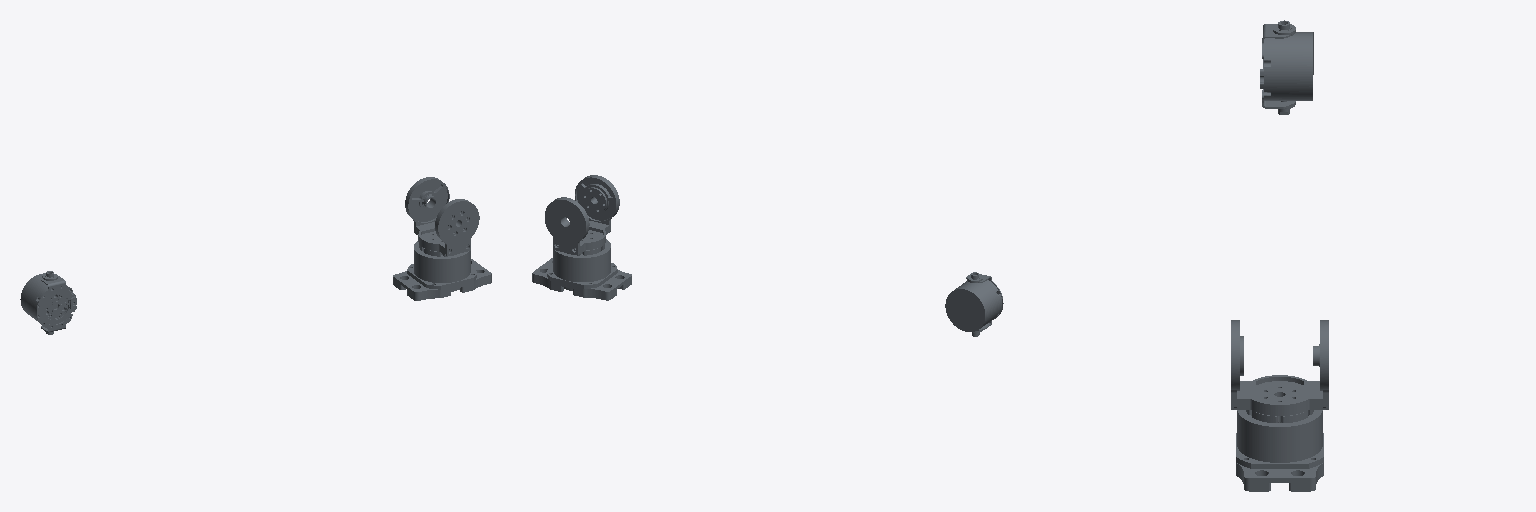
URDF robot description (openarm_two_arms):
<?xml version="1.0" ?>
<robot name="openarm_two_arms">
  <link name="l_J1_v002">
    <visual>
      <!--J1 v002/Part__Feature001.-->
      <origin rpy="0 0 0" xyz="0.0 0.0 -0.0007"/>
      <geometry>
        <mesh filename="package://openarm_two_arms/meshes/full_upper_j1v1_fj2ul1.dae"/>
      </geometry>
    </visual>
    <collision>
      <!--bound_obj__right_link1__col_J1_v1__BoundBox/col_J1_v1__BoundBox.-->
      <origin rpy="0 0 0" xyz="0.0 0.0 0.0289"/>
      <geometry>
        <box size="0.11 0.073 0.0592"/>
      </geometry>
    </collision>
    <inertial>
      <mass value="0.5769283920617254"/>
      <origin rpy="0 0 0" xyz="0.0 2.52845e-05 0.0229621"/>
      <inertia ixx="0.00034035167574060775" ixy="-2.623557985991217e-18" ixz="-6.093726095527621e-18" iyy="0.0004300058300010205" iyz="-5.09829482074806e-07" izz="0.0004802171432001996"/>
    </inertial>
  </link>
  <link name="l_J2_v002">
    <visual>
      <!--J2 v002/Part__Feature002.-->
      <origin rpy="0 0 0" xyz="0.0 0.0 -0.05395"/>
      <geometry>
        <mesh filename="package://openarm_two_arms/meshes/full_upper_j2v1_xzm1cu.dae"/>
      </geometry>
    </visual>
    <collision>
      <!--bound_obj__right_link2__col_J2_v1__BoundBox/col_J2_v1__BoundBox.-->
      <origin rpy="0 0 0" xyz="0.0 0.0 0.0371236"/>
      <geometry>
        <box size="0.0590000000149012 0.08200000000000002 0.0742471498637348"/>
      </geometry>
    </collision>
    <inertial>
      <mass value="0.16257504134917358"/>
      <origin rpy="0 0 0" xyz="-0.000225878 -0.00183836 0.0278368"/>
      <inertia ixx="0.00023903110213294374" ixy="-7.551692921096027e-08" ixz="-1.1282723362433474e-06" iyy="0.00010490798314778774" iyz="5.9079627839725245e-06" izz="0.00019737368685935776"/>
    </inertial>
  </link>
  <link name="l_J3_v003">
    <visual>
      <!--J3 v003/Part__Feature003.-->
      <origin rpy="1.570796326794897 0 0" xyz="0.0 0.0987 0.02975"/>
      <geometry>
        <mesh filename="package://openarm_two_arms/meshes/full_upper_j3v2_5nirfo.dae"/>
      </geometry>
    </visual>
    <collision>
      <!--bound_obj__right_link3__col_J3_v2__BoundBox/col_J3_v2__BoundBox.-->
      <origin rpy="1.5707963267948968 0 0" xyz="-0.0164466 -0.00045542 0.02975"/>
      <geometry>
        <box size="0.08989101803441879 0.06999999999999983 0.05903276947803012"/>
      </geometry>
    </collision>
    <inertial>
      <mass value="0.4201676469910031"/>
      <origin rpy="1.5707963267948968 0 0" xyz="-0.00688022 0.0 0.0282752"/>
      <inertia ixx="0.00020256001126230057" ixy="6.004247875311213e-06" ixz="1.3304903057525575e-06" iyy="0.0002970624991387495" iyz="5.980157765704868e-07" izz="0.00032889994351244413"/>
    </inertial>
  </link>
  <link name="l_J4_v002">
    <visual>
      <!--J4 v002/Part__Feature004.-->
      <origin rpy="-3.1415926535888543 -1.5620381439005742 0" xyz="-0.0986962 0.0 0.0621144"/>
      <geometry>
        <mesh filename="package://openarm_two_arms/meshes/full_upper_j4v1_u1e2xn.dae"/>
      </geometry>
    </visual>
    <collision>
      <!--bound_obj__right_link4__col_J4_v1__BoundBox/col_J4_v1__BoundBox.-->
      <origin rpy="-3.14159265358886 -1.5620381439005742 0" xyz="0.000266276 -0.0125642 -0.132604"/>
      <geometry>
        <box size="0.27584673777150337 0.08211429171582063 0.07186573179325861"/>
      </geometry>
    </collision>
    <inertial>
      <mass value="0.819475539373447"/>
      <origin rpy="-3.14159265358886 -1.5620381439005742 0" xyz="0.000781326 -0.0019461 -0.132411"/>
      <inertia ixx="0.00044078452033976287" ixy="6.020023694043618e-05" ixz="0.00014637459261941218" iyy="0.009208791480530413" iyz="1.5469710436444469e-06" izz="0.009170539316023695"/>
    </inertial>
  </link>
  <link name="l_J5_v003">
    <visual>
      <!--J5 v003/Part__Feature005.-->
      <origin rpy="0 -0.008758182894317394 0" xyz="0.303864 0.0 -0.128451"/>
      <geometry>
        <mesh filename="package://openarm_two_arms/meshes/full_upper_j5v2_ckk9an.dae"/>
      </geometry>
    </visual>
    <collision>
      <!--bound_obj__right_link5__col_J5_v2__BoundBox/col_J5_v2__BoundBox.-->
      <origin rpy="0 -0.008758182894316818 0" xyz="-0.0542814 0.00265291 -0.0302022"/>
      <geometry>
        <box size="0.16827213220625828 0.06430555048399171 0.08257859967140947"/>
      </geometry>
    </collision>
    <inertial>
      <mass value="0.4086748254352304"/>
      <origin rpy="0 -0.008758182894316905 0" xyz="-0.0831891 0.00251789 -0.0290107"/>
      <inertia ixx="0.00031417157425298747" ixy="-1.1391566029536723e-05" ixz="-1.883474090056124e-05" iyy="0.001221711435313989" iyz="1.46725418421127e-06" izz="0.0010755135067660488"/>
    </inertial>
  </link>
  <link name="l_J6_right_wrist">
    <visual>
      <!--J6 right_wrist/Part__Feature006.-->
      <origin rpy="-2.1276679791326423 -1.5542266826921929 0" xyz="-0.0485412 -0.0860404 0.437784"/>
      <geometry>
        <mesh filename="package://openarm_two_arms/meshes/full_upper_j6v1_mg9rps.dae"/>
      </geometry>
    </visual>
    <collision>
      <!--bound_obj__right_link6__col_J6_v1__BoundBox/col_J6_v1__BoundBox.-->
      <origin rpy="-2.127667979132636 -1.5542266826921927 0" xyz="-0.00260794 -0.00312921 -0.0652641"/>
      <geometry>
        <box size="0.13114353004704765 0.05953478325301745 0.08817196195081879"/>
      </geometry>
    </collision>
    <inertial>
      <mass value="0.3448471958049249"/>
      <origin rpy="-2.127667979132636 -1.5542266826921927 0" xyz="-0.00898536 -0.0135065 -0.0438611"/>
      <inertia ixx="0.00019355980999748924" ixy="-1.0061665815148114e-06" ixz="-3.9096495715032716e-05" iyy="0.0003486912031865755" iyz="6.088060315273385e-06" izz="0.00028774975153756256"/>
    </inertial>
  </link>
  <link name="l_J7_v002">
    <visual>
      <!--J7 right v002/Part__Feature007.-->
      <origin rpy="0 -0.008758182894510852 0" xyz="0.558839 -0.00358671 -0.0631962"/>
      <geometry>
        <mesh filename="package://openarm_two_arms/meshes/full_upper_j7v1_9yzky6.dae"/>
      </geometry>
    </visual>
    <collision>
      <!--bound_obj__right_link7__col_J7_v1__BoundBox/col_J7_v1__BoundBox.-->
      <origin rpy="0 -0.008758182894511114 0" xyz="-0.000318103 0.0022839 0.0340014"/>
      <geometry>
        <box size="0.058327402175132874 0.04432916698753661 0.08267601622411752"/>
      </geometry>
    </collision>
    <inertial>
      <mass value="0.2782138078738053"/>
      <origin rpy="0 -0.008758182894511043 0" xyz="5.99432e-05 0.0041433 0.0354274"/>
      <inertia ixx="0.00010424153315648891" ixy="2.735265831785291e-07" ixz="-1.0662322382945994e-07" iyy="0.00012313550743283462" iyz="-8.604996754782856e-08" izz="9.221319958512582e-05"/>
    </inertial>
  </link>
  <link name="l_J8_v002">
    <visual>
      <!--J8 v002/Part__Feature008.-->
      <origin rpy="1.5709195259578714 -0.014065461951077267 0" xyz="0.557948 0.103587 0.019724"/>
      <geometry>
        <mesh filename="package://openarm_two_arms/meshes/full_upper_j8v1_dka5zq.dae"/>
      </geometry>
    </visual>
    <collision>
      <!--bound_obj__right_link8__col_J8_v1__BoundBox/col_J8_v1__BoundBox.-->
      <origin rpy="1.5709195259578714 -0.01406546195107726 0" xyz="-0.042694 -0.000543176 0.0110286"/>
      <geometry>
        <box size="0.13038799671743653 0.05180887692688926 0.1601236763440867"/>
      </geometry>
    </collision>
    <inertial>
      <mass value="0.31261452743802165"/>
      <origin rpy="1.5709195259578714 -0.01406546195107726 0" xyz="-0.0607602 -0.000341696 0.00876618"/>
      <inertia ixx="0.00023465661366788053" ixy="7.609048882006294e-05" ixz="3.088694121124684e-07" iyy="0.0005065459365215377" iyz="1.9022818028658623e-07" izz="0.0003737029250058136"/>
    </inertial>
  </link>
  <link name="l_left_jaw_v002">
    <visual>
      <!--left_jaw v002/Part__Feature009.-->
      <origin rpy="0 -0.008758182894469432 0" xyz="0.665265 -0.00286677 -0.0209282"/>
      <geometry>
        <mesh filename="package://openarm_two_arms/meshes/full_upper_left_jawv1_6yxtlc.dae"/>
      </geometry>
    </visual>
    <collision>
      <!--bound_obj__right_left_jaw__col_left_jaw_v1_col_obj/col_left_jaw_v1_col_obj.-->
      <origin rpy="0 -0.0087581828944695 0" xyz="0.665265 -0.00286677 -0.0209282"/>
      <geometry>
        <mesh filename="package://openarm_two_arms/meshes/full_upper_col_left_jaw_v1_col_obj_wr4fju.dae"/>
      </geometry>
    </collision>
    <inertial>
      <mass value="0.04297897856394934"/>
      <origin rpy="0 -0.008758182894469429 0" xyz="-0.0187138 0.00217075 0.0159499"/>
      <inertia ixx="1.1771768742932353e-05" ixy="-2.389928166589898e-06" ixz="3.999292204534159e-06" iyy="2.3837354480794824e-05" iyz="3.494431877242991e-07" izz="3.0474590214086944e-05"/>
    </inertial>
  </link>
  <link name="l_right_jaw_v002">
    <visual>
      <!--right_jaw v002/Part__Feature010.-->
      <origin rpy="0 -0.008758182898001485 0" xyz="0.665265 -0.00286677 -0.175928"/>
      <geometry>
        <mesh filename="package://openarm_two_arms/meshes/full_upper_right_jawv1_0fmgsg.dae"/>
      </geometry>
    </visual>
    <collision>
      <!--bound_obj__right_right_jaw__col_right_jaw_v1_col_obj/col_right_jaw_v1_col_obj.-->
      <origin rpy="0 -0.008758182898001553 0" xyz="0.665265 -0.00286677 -0.175928"/>
      <geometry>
        <mesh filename="package://openarm_two_arms/meshes/full_upper_col_right_jaw_v1_col_obj_9qatoq.dae"/>
      </geometry>
    </collision>
    <inertial>
      <mass value="0.042981665301134515"/>
      <origin rpy="0 -0.00875818289800148 0" xyz="-0.0187844 -0.00272415 -0.0159503"/>
      <inertia ixx="1.1561293087621594e-05" ixy="2.537718468008212e-06" ixz="-3.6591812257702003e-06" iyy="2.370165527871047e-05" iyz="4.848038235889027e-07" izz="3.039652946542647e-05"/>
    </inertial>
  </link>
  <joint name="right_rev1" type="revolute">
    <parent link="l_J1_v002"/>
    <child link="l_J2_v002"/>
    <origin rpy="0 0 0" xyz="0.0 0.0 0.05325"/>
    <axis xyz="0 0 1"/>
    <limit effort="0.0" lower="-2.0943951023931953" upper="2.0943951023931953" velocity="0.0"/>
  </joint>
  <joint name="right_rev2" type="revolute">
    <parent link="l_J2_v002"/>
    <child link="l_J3_v003"/>
    <origin rpy="-1.5707963267948968 0 0" xyz="0.0 -0.02975 0.04475"/>
    <axis xyz="0 0 1"/>
    <limit effort="0.0" lower="0.0" upper="3.141592653589793" velocity="0.0"/>
  </joint>
  <joint name="right_rev3" type="revolute">
    <parent link="l_J3_v003"/>
    <child link="l_J4_v002"/>
    <origin rpy="-1.5707963267949054 0 -1.562038143900564" xyz="-0.0612477 -0.000536432 0.02975"/>
    <axis xyz="0 0 1"/>
    <limit effort="0.0" lower="-3.6651914291880923" upper="0.5235987755982988" velocity="0.0"/>
  </joint>
  <joint name="right_rev4" type="revolute">
    <parent link="l_J4_v002"/>
    <child link="l_J5_v003"/>
    <origin rpy="-0.20701608758495998 -1.5707963267948566 -2.937419385117548" xyz="0.0297547 0.0 -0.24175"/>
    <axis xyz="0 0 1"/>
    <limit effort="0.0" lower="-0.3490658503988659" upper="2.792526803190927" velocity="0.0"/>
  </joint>
  <joint name="right_rev5" type="revolute">
    <parent link="l_J5_v003"/>
    <child link="l_J6_right_wrist"/>
    <origin rpy="1.5707963267948473 -0.5569332500492129 1.556730325338251" xyz="-0.133937 0.00188408 -0.0297547"/>
    <axis xyz="0 0 1"/>
    <limit effort="0.0" lower="-2.0943951023931953" upper="2.0943951023931953" velocity="0.0"/>
  </joint>
  <joint name="right_rev6" type="revolute">
    <parent link="l_J6_right_wrist"/>
    <child link="l_J7_v002"/>
    <origin rpy="-1.5707963268024898 -1.5567303253382425 -0.5569332500461536" xyz="-0.0187648 -0.0301352 -0.12105"/>
    <axis xyz="0 0 1"/>
    <limit effort="0.0" lower="-1.5707963267948966" upper="1.5707963267948966" velocity="0.0"/>
  </joint>
  <joint name="right_rev7" type="revolute">
    <parent link="l_J7_v002"/>
    <child link="l_J8_v002"/>
    <origin rpy="-1.5707963267950005 -0.00875904933536772 -0.014066001454933467" xyz="-0.000217313 -0.0154485 0.0355"/>
    <axis xyz="0 0 1"/>
    <limit effort="0.0" lower="-0.9599310885968813" upper="0.9599310885968813" velocity="0.0"/>
  </joint>
  <joint name="right_left_pris1" type="prismatic">
    <parent link="l_J8_v002"/>
    <child link="l_left_jaw_v002"/>
    <origin rpy="1.570796326795101 -0.014066001454929162 0.00875904933542146" xyz="-0.1071 0.0768568 0.0132053"/>
    <axis xyz="0 0 1"/>
    <limit effort="0.0" lower="0.0" upper="0.045" velocity="0.0"/>
  </joint>
  <joint name="right_right_pris2" type="prismatic">
    <parent link="l_J8_v002"/>
    <child link="l_right_jaw_v002"/>
    <origin rpy="1.570796326794883 -0.014066001454927403 0.008759049336290027" xyz="-0.10571 -0.0781373 0.0132053"/>
    <axis xyz="0 0 1"/>
    <limit effort="0.0" lower="0.0" upper="0.045" velocity="0.0"/>
    <mimic joint="right_left_pris1" multiplier="-1.0" offset="0.0"/>
  </joint>
</robot>

--- Render facts (derived) ---
The picture shows the robot from 3 angles, left to right: view 1: azimuth 30°, elevation 25°; view 2: azimuth 150°, elevation 25°; view 3: azimuth 270°, elevation 25°; orthographic projection.
Robot: openarm_two_arms — 10 links, 9 joints (7 revolute, 2 prismatic); root link l_J1_v002; default pose: all joints at 0.
Visible links, largest first — view 1: l_J2_v002, l_J1_v002, l_J7_v002; view 2: l_J2_v002, l_J1_v002, l_J7_v002; view 3: l_J1_v002, l_J2_v002, l_J7_v002.
Link boxes in pixels (x1=…): l_J2_v002: x1=405, y1=177, x2=479, y2=256; l_J1_v002: x1=393, y1=241, x2=491, y2=300; l_J7_v002: x1=20, y1=271, x2=76, y2=334; l_J2_v002: x1=545, y1=175, x2=619, y2=255; l_J1_v002: x1=532, y1=239, x2=631, y2=300; l_J7_v002: x1=945, y1=272, x2=1003, y2=336; l_J1_v002: x1=1236, y1=410, x2=1323, y2=491; l_J2_v002: x1=1231, y1=320, x2=1328, y2=415; l_J7_v002: x1=1260, y1=20, x2=1313, y2=114.
Size in the robot's own frame: 0.6425 by 0.082 by 0.1434 metres.
3 mesh visuals loaded from 10 distinct referenced files (3 Collada DAE); not drawn: 7 (reference not matched to a file when rendering).